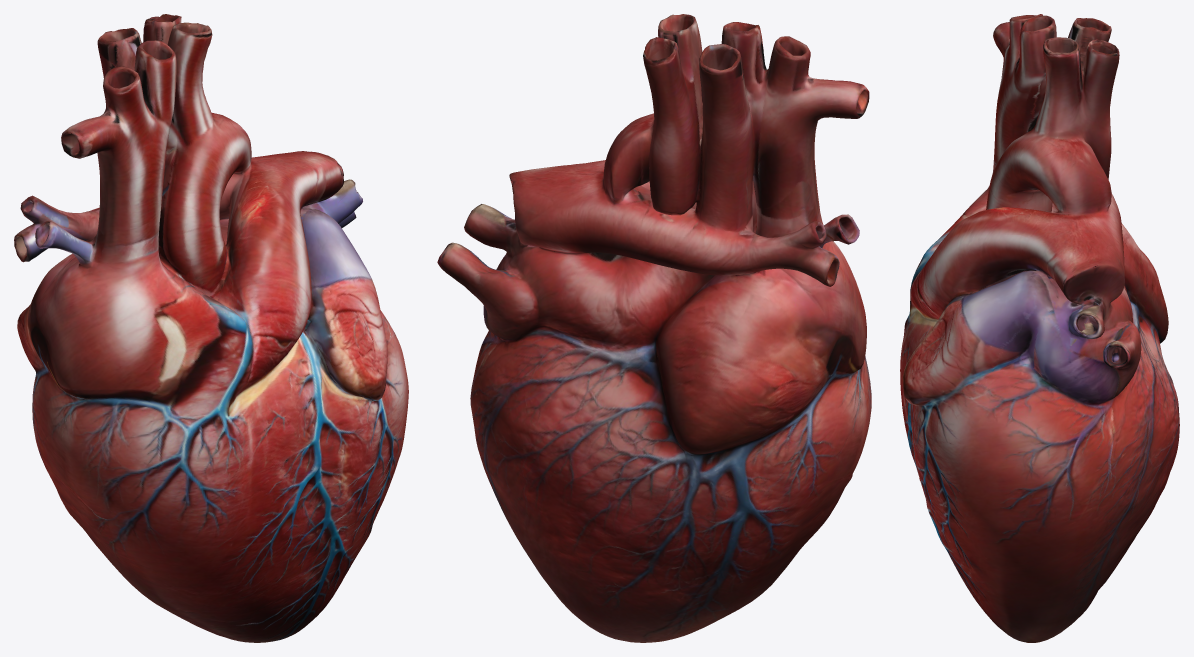
The model's file is refined_human heart.glb.
3 renders of one model, left to right at view 1: azimuth 30°, elevation 25°; view 2: azimuth 150°, elevation 25°; view 3: azimuth 270°, elevation 25°, orthographic. The views are drawn at different scales.
Size of the model in its own units: 1.21 by 2 by 0.8935.
1 material, 1 textured.
